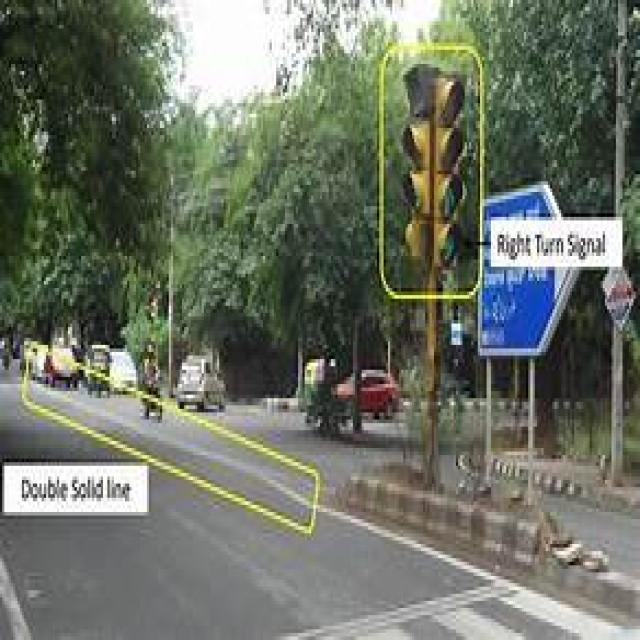Car: (179, 359, 225, 409), (360, 369, 399, 417), (335, 377, 352, 398)
